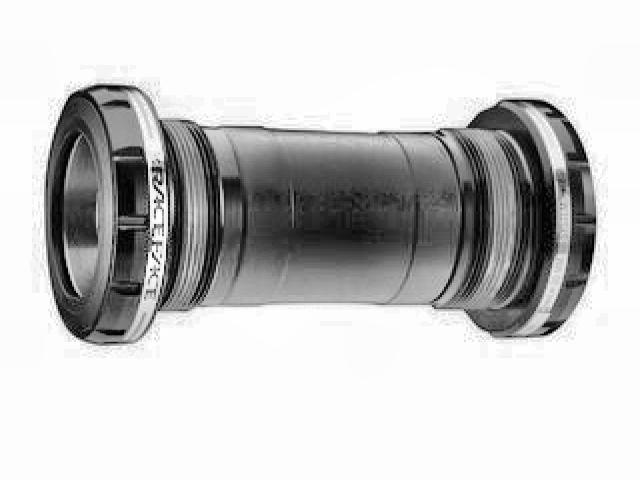bottom_bracket: (40, 79, 600, 347)
